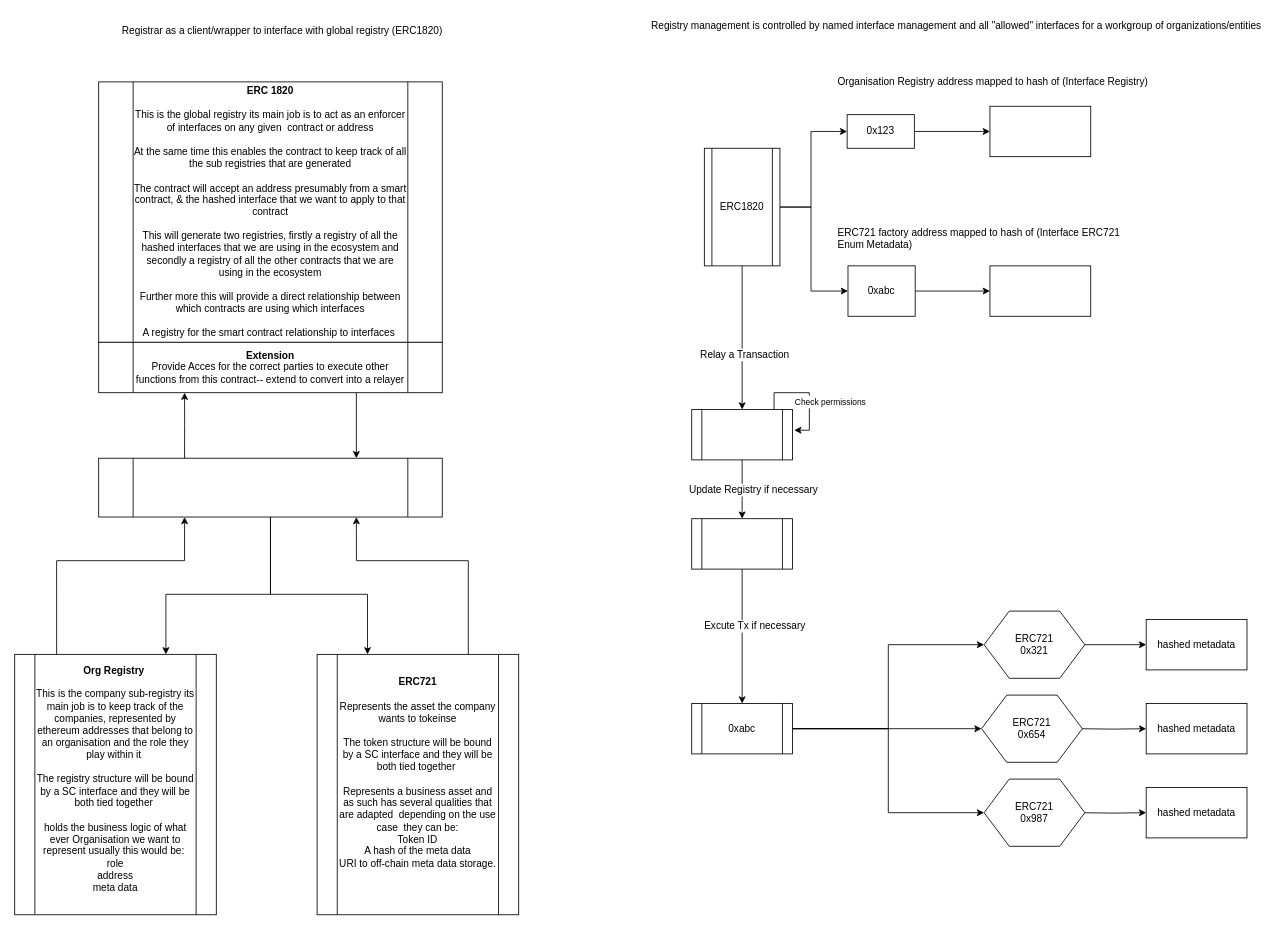
The diagram is 1276 pixels wide and 929 high, and some of its shapes have lost their labels. The centre of each missing label's shape, as x and y in pixels:
ERC725: the point at 742,434
ERC725 Permissions are handled here: the point at 270,487
H(Interface ERC721 Enum Metadata ): the point at 1040,290
H(Interface Registry): the point at 1040,131
Registry 0x123: the point at 742,543
